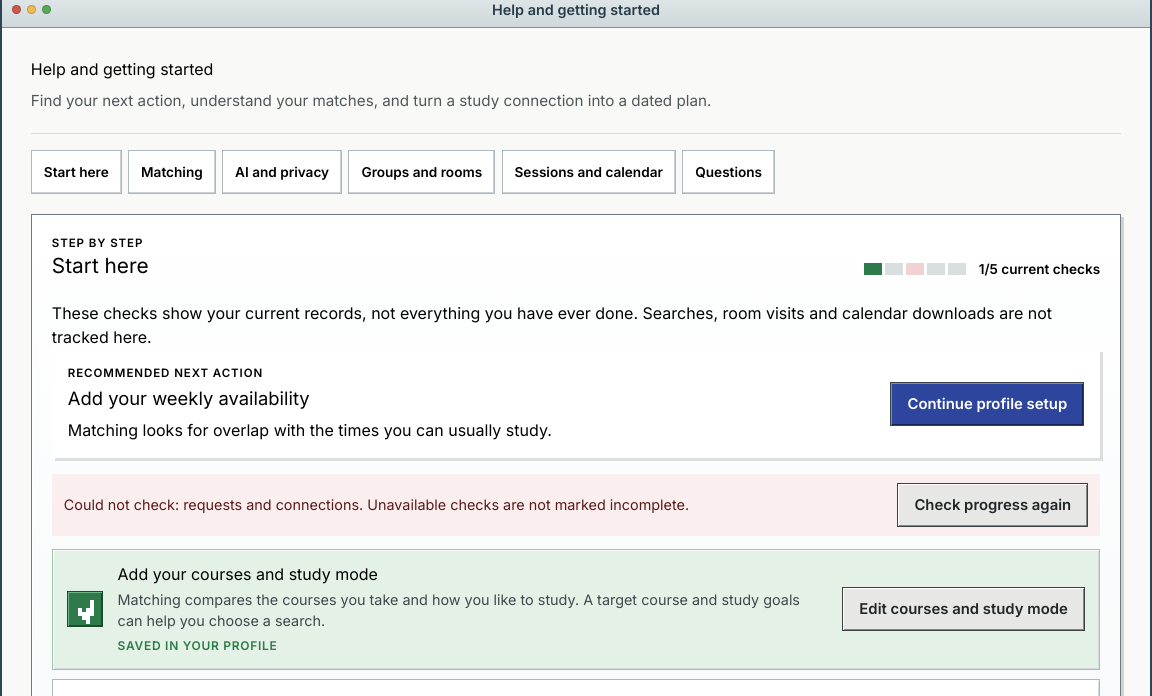
Test: help page › keeps known progress and usable links when a check fails, then retries only that source
The image size is (1152, 696).
Expected: the message shows "Could not check: requests and connections", [52,474,1100,536]
Expected: the list item that starts with "Add your courses and study mode" shows "Saved in your profile", [118,638,278,653]
What coordinates should you click on to do the following:
click the button "Check progress again"
I would click on:
 (993, 505)
Its box is [897,483,1088,527].
(page scrolled)
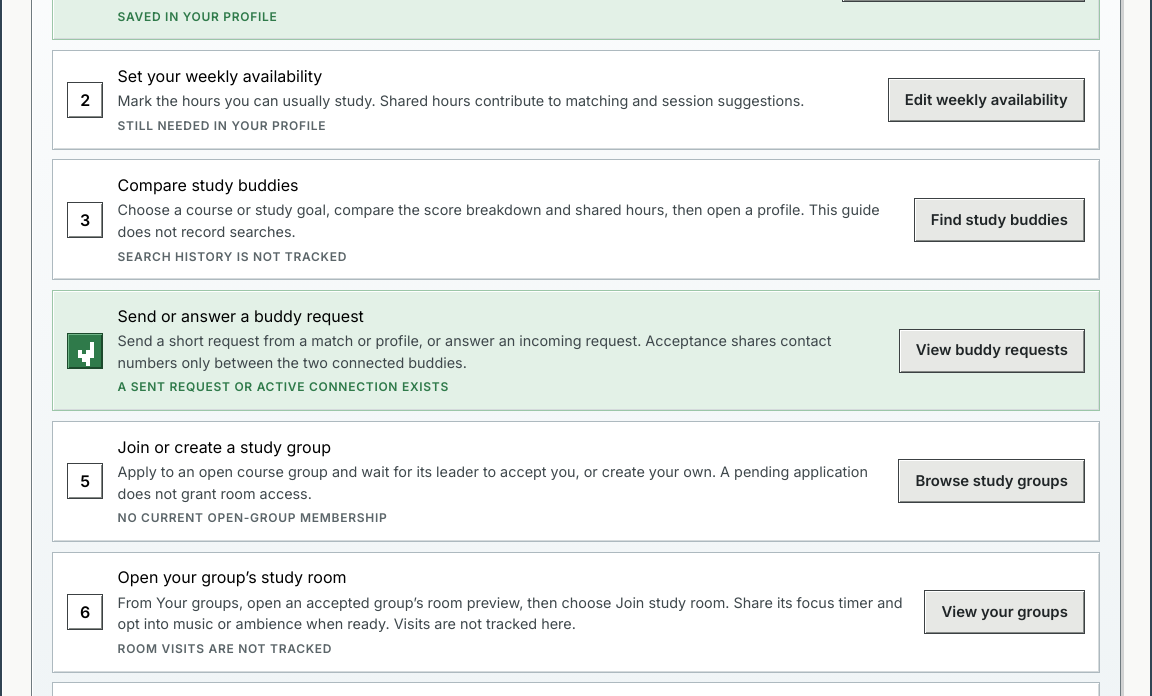
Expected: the list item that starts with "Send or answer a buddy request" shows "A sent request or active connection exists", [118,379,449,394]
